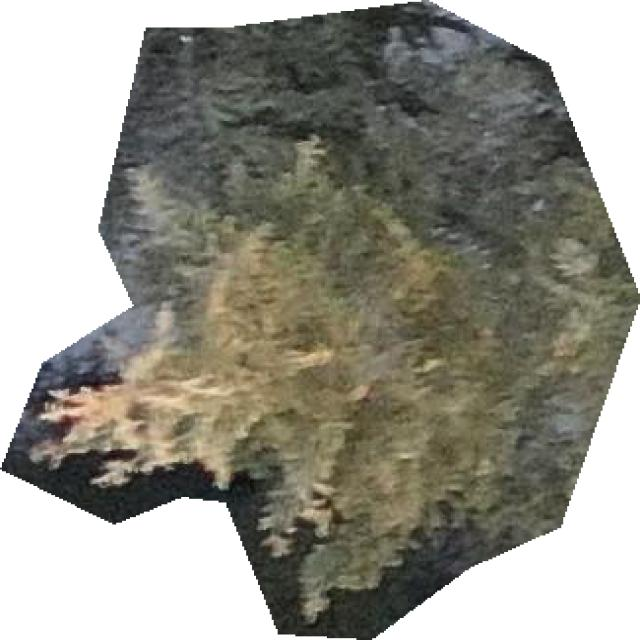spruce: (0, 0, 638, 638)
